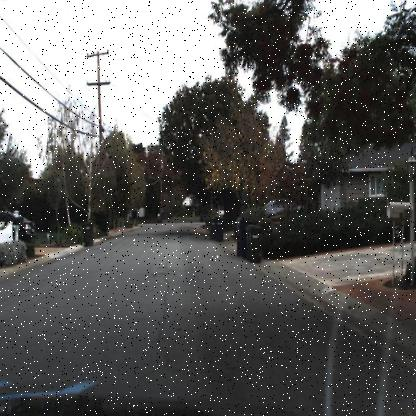car: (257, 187, 303, 227)
